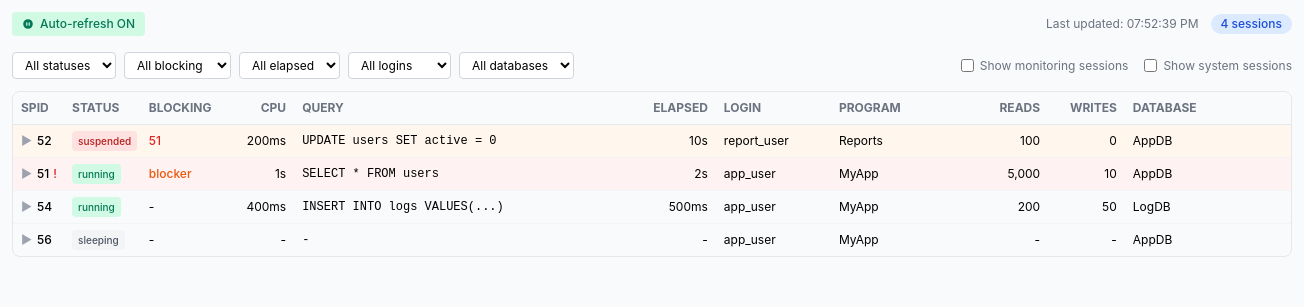
Test: CurrentActivity › shows WAITFOR sessions when "show system sessions" is toggled
Click the checkbox with test id "show-system-toggle" at (1151, 66), box [1144,59,1157,72]
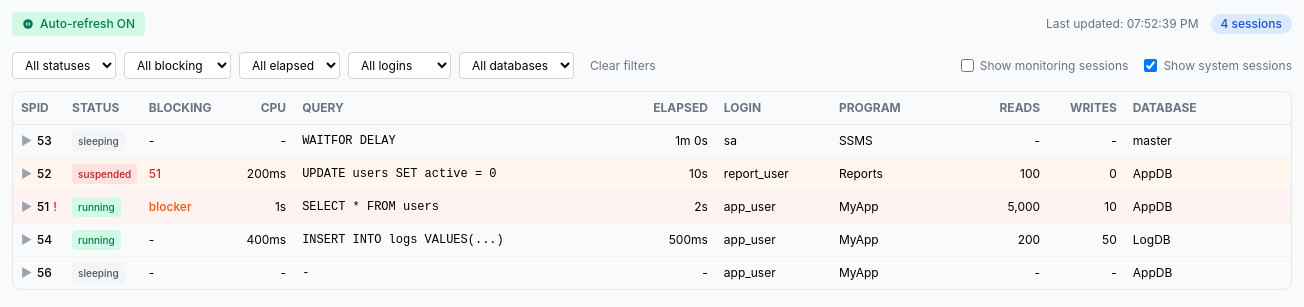
Expected: the row with test id "session-row-53" is shown, [13,124,1291,158]
